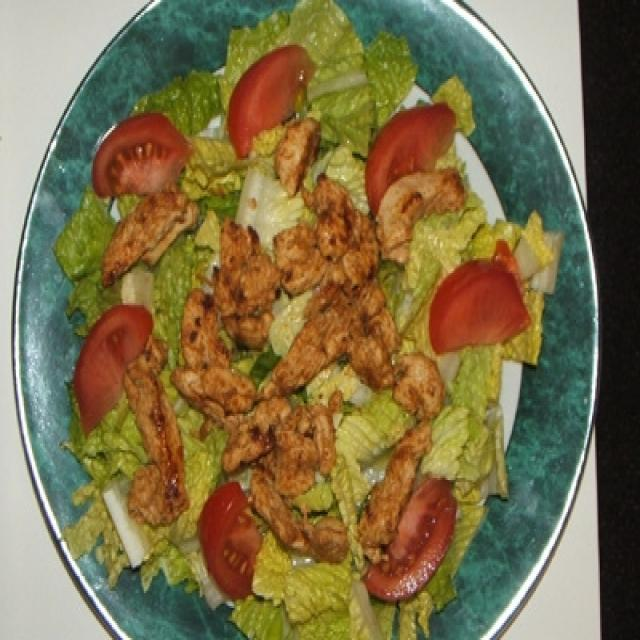鸡肉料理 含炸鸡: (44, 36, 586, 621)
